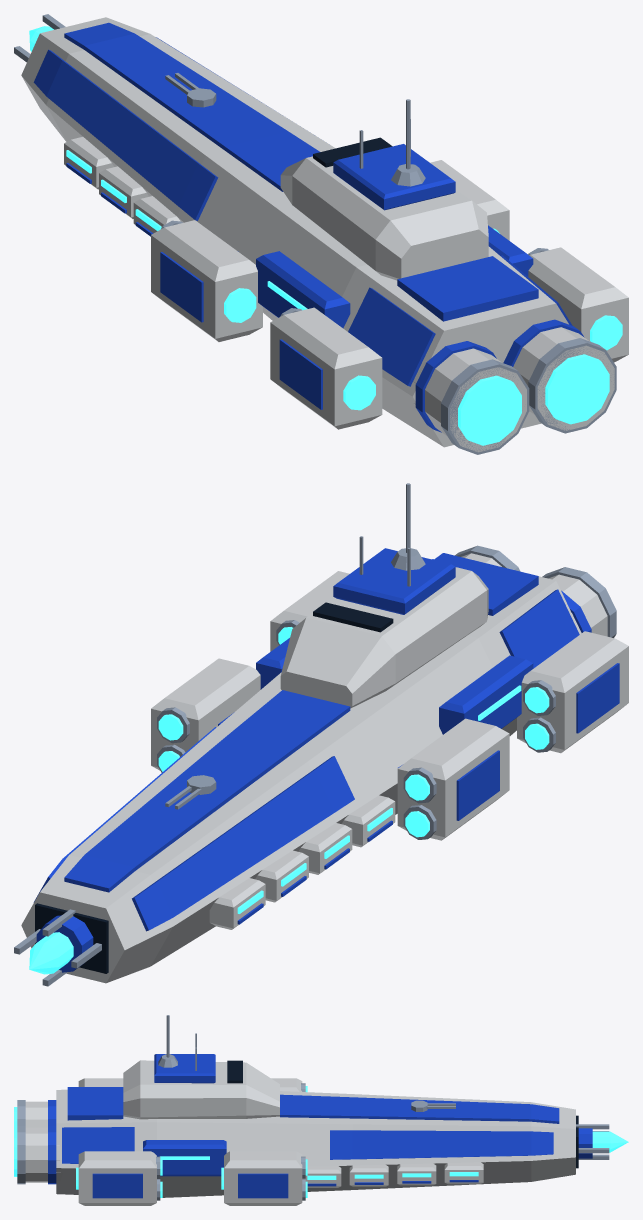
File: ark_nova.glb
3 renders of one model, top to bottom at view 1: azimuth 30°, elevation 25°; view 2: azimuth 150°, elevation 25°; view 3: azimuth 270°, elevation 25°, orthographic. The views are drawn at different scales.
Parts seen in each view (by area): view 1: ark_nova; view 2: ark_nova; view 3: ark_nova.
Part boxes in pixels (x1,y1,x2,y2): ark_nova: [14, 14, 628, 454]; ark_nova: [14, 483, 628, 986]; ark_nova: [14, 1015, 628, 1205].
Size of the model in its own units: 0.8856 by 0.7675 by 2.6.
